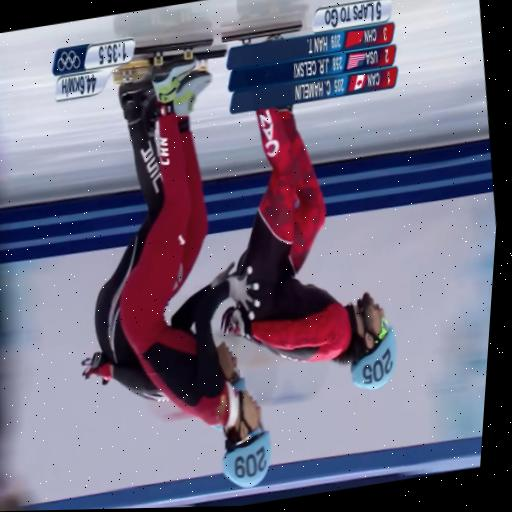Skater: (117, 37, 269, 486), (220, 105, 398, 391), (79, 58, 168, 404)
